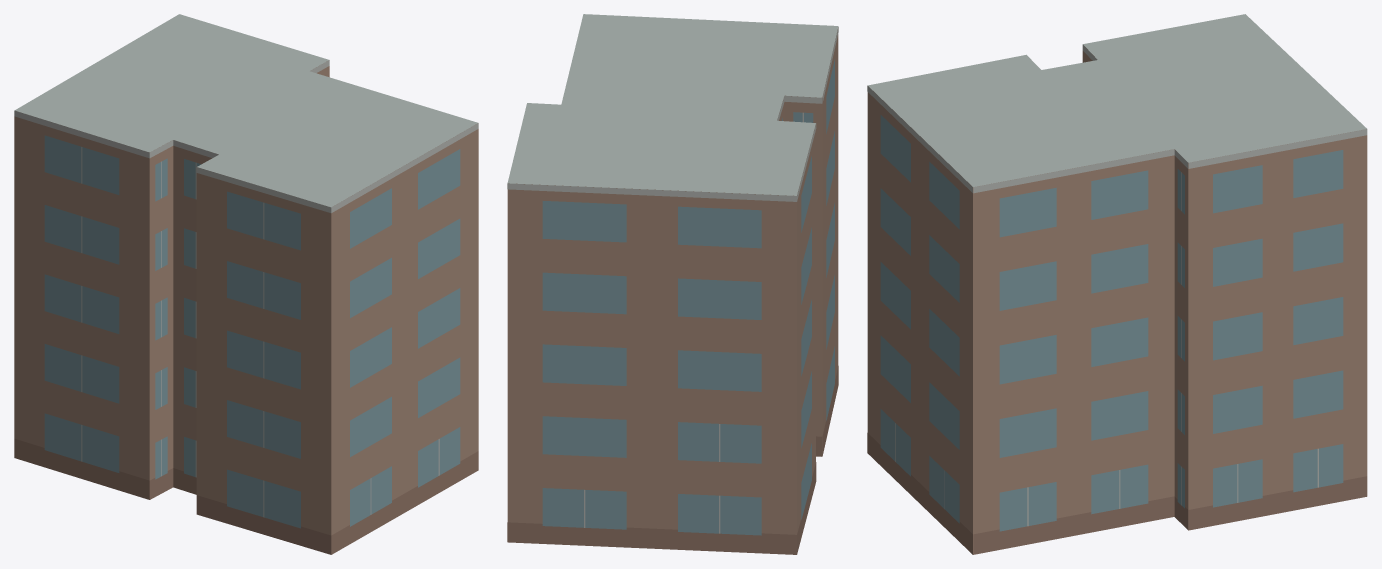
Rendered from survey-upis-32929891.glb.
3 views of the same model, side by side, from view 1: azimuth 30°, elevation 25°; view 2: azimuth 150°, elevation 25°; view 3: azimuth 270°, elevation 25° (orthographic). The views are drawn at different scales.
Parts seen in each view (by area): view 1: survey-upis-32929891.tmp; view 2: survey-upis-32929891.tmp; view 3: survey-upis-32929891.tmp.
Part boxes in pixels (x1,y1,x2,y2): survey-upis-32929891.tmp: (14,14,478,554); survey-upis-32929891.tmp: (507,14,838,554); survey-upis-32929891.tmp: (867,14,1367,554).
Size of the model in its own units: 14.56 by 14.4 by 17.75.
